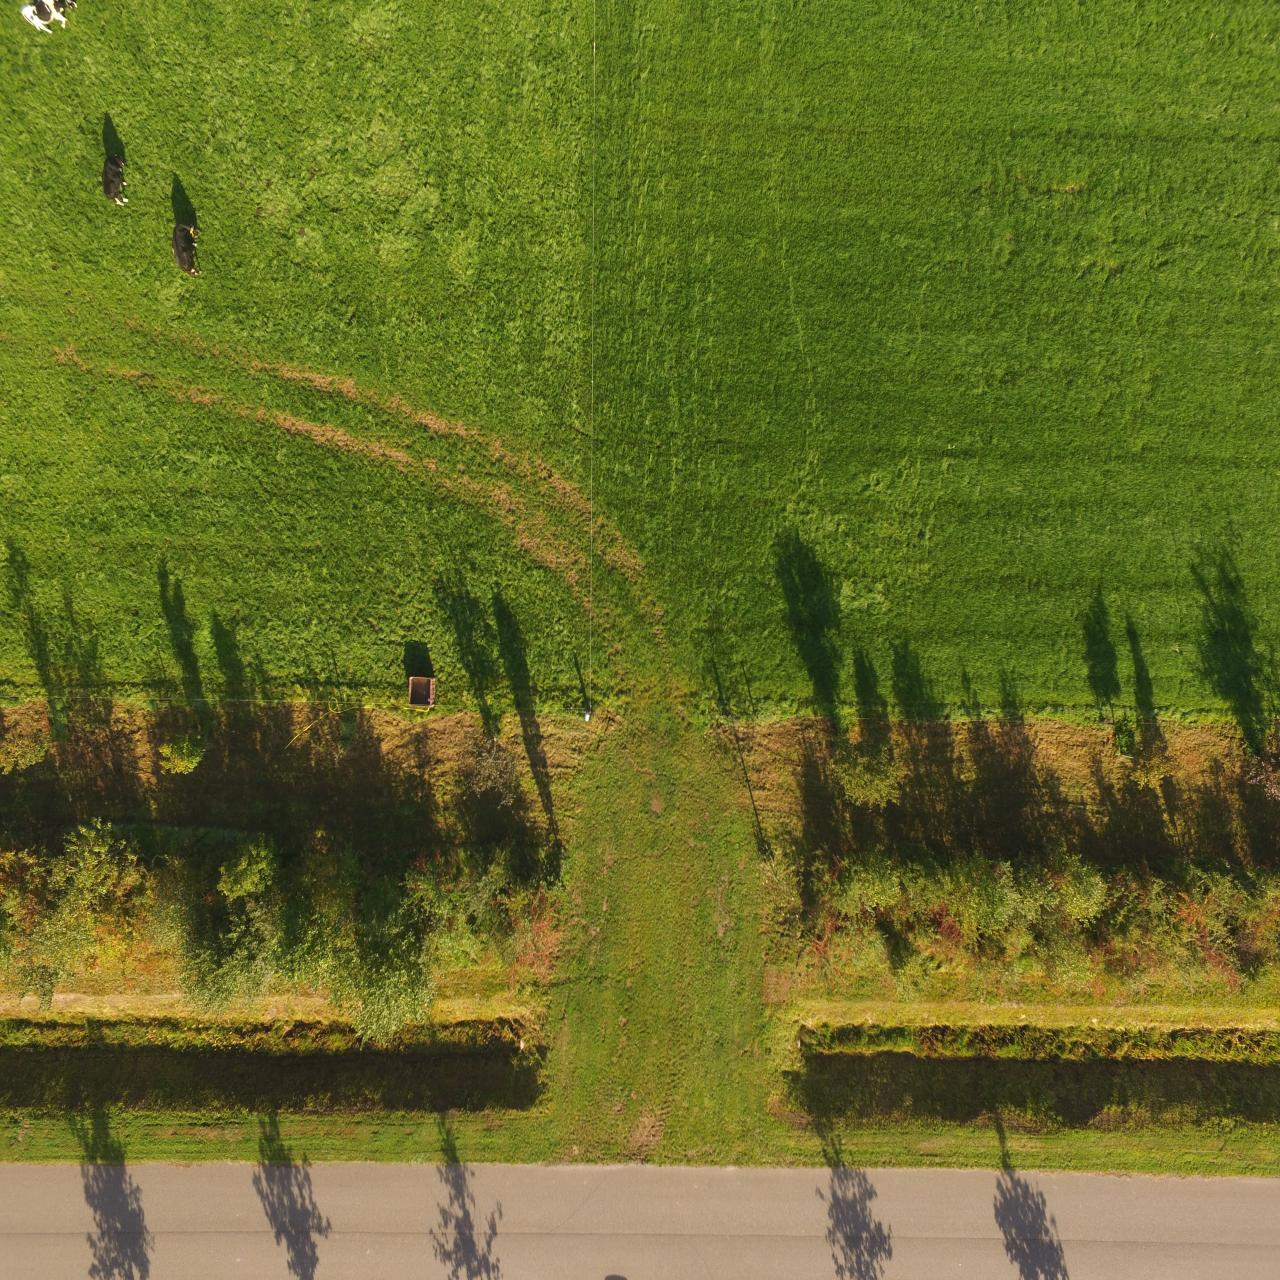cow: (169, 215, 211, 288), (97, 148, 138, 212)
